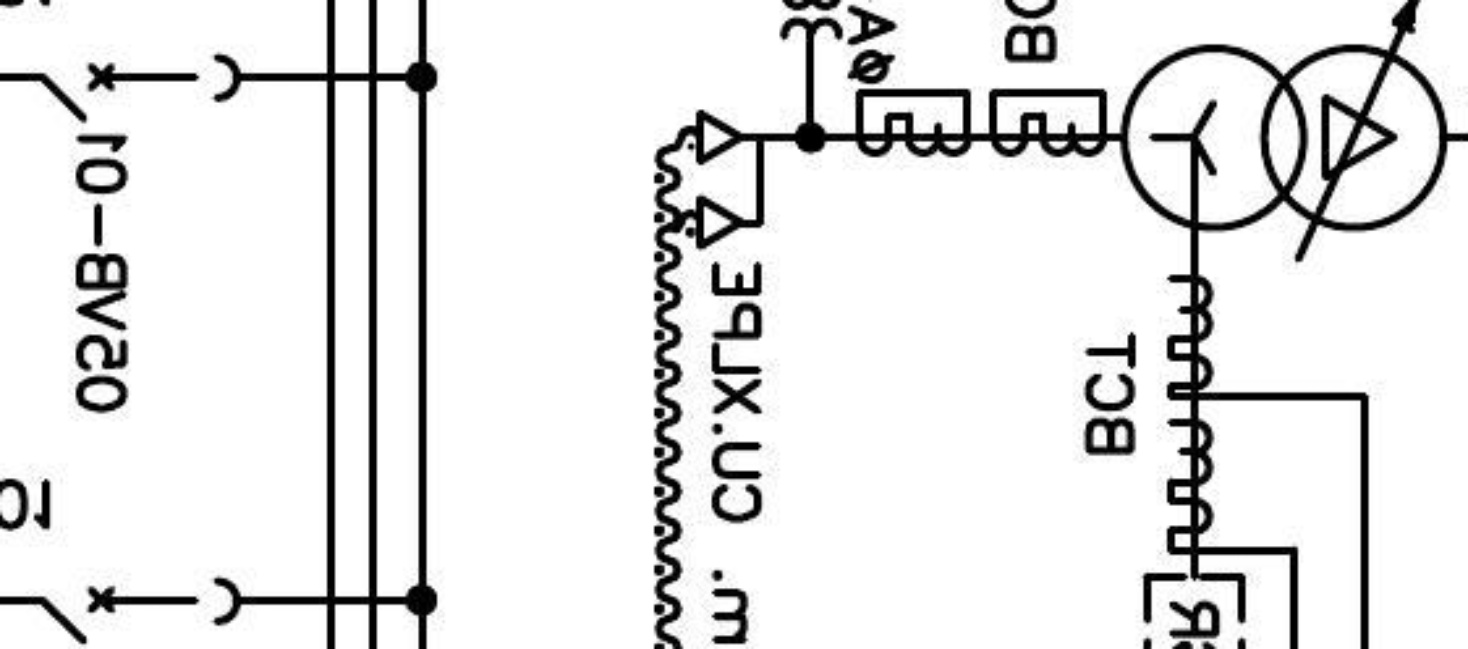11522_tx_dyn1: (1118, 42, 1449, 234)
terminator_double: (695, 109, 766, 250)
